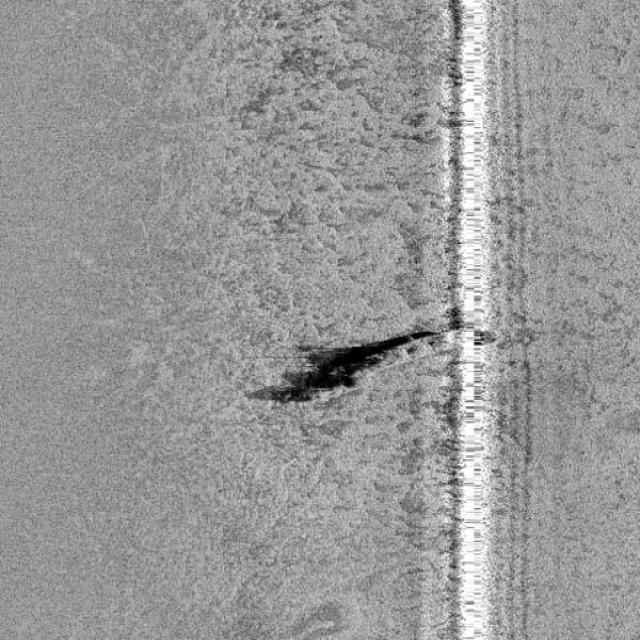ship: (271, 318, 461, 399)
